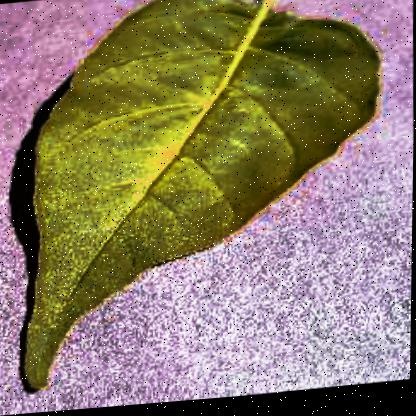Healthy: (3, 0, 390, 391)
